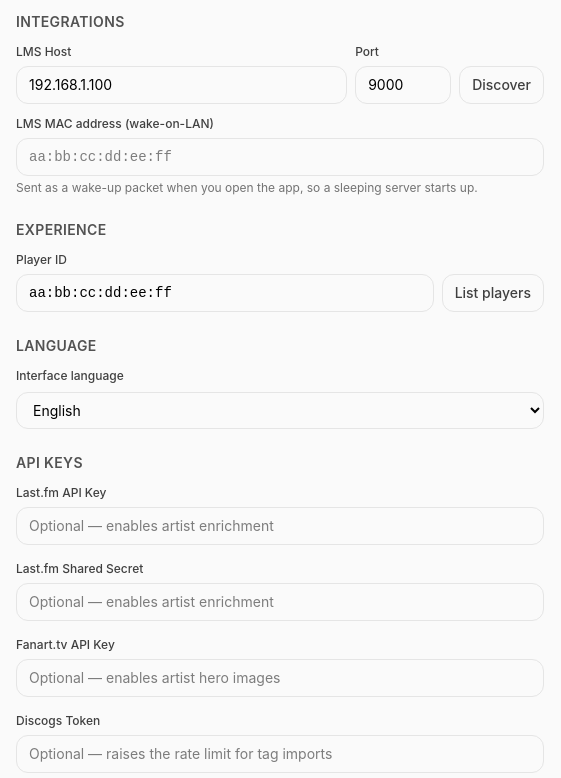
Scenario: SettingsView › shows discovered servers in dropdown after discover
This screenshot has width=561, height=778.
Click the button with test id "discover-button": (502, 85) [459, 66, 544, 104]
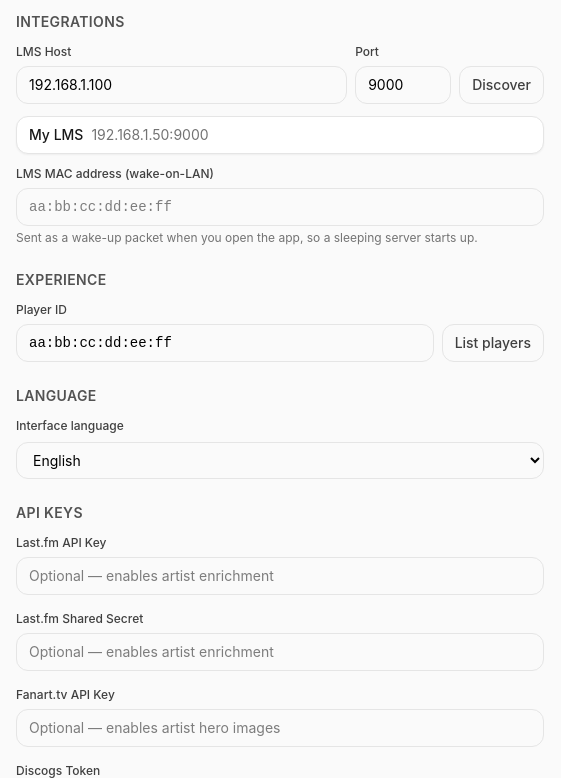
Expected: the element with test id "server-dropdown" is shown, [16, 116, 544, 154]
Expected: the button with test id "server-option" shows "My LMS", [17, 117, 543, 153]
